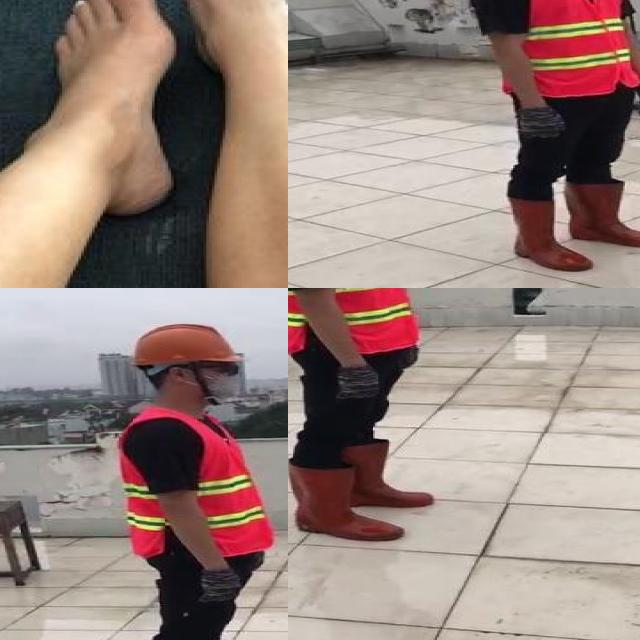Barefoots: (128, 0, 288, 69)
boots: (290, 464, 408, 544), (494, 193, 596, 274), (343, 429, 442, 507), (568, 177, 640, 247)
face_mask: (194, 359, 246, 398)
glasses: (199, 358, 245, 378)
hand_glove: (511, 105, 568, 142), (191, 567, 242, 604), (336, 363, 386, 400), (626, 81, 640, 121)
head_helmet: (133, 319, 247, 366)
person: (103, 320, 288, 640), (451, 0, 640, 280), (288, 288, 445, 547)
vest: (110, 407, 277, 555), (481, 0, 639, 98), (288, 288, 419, 351)
